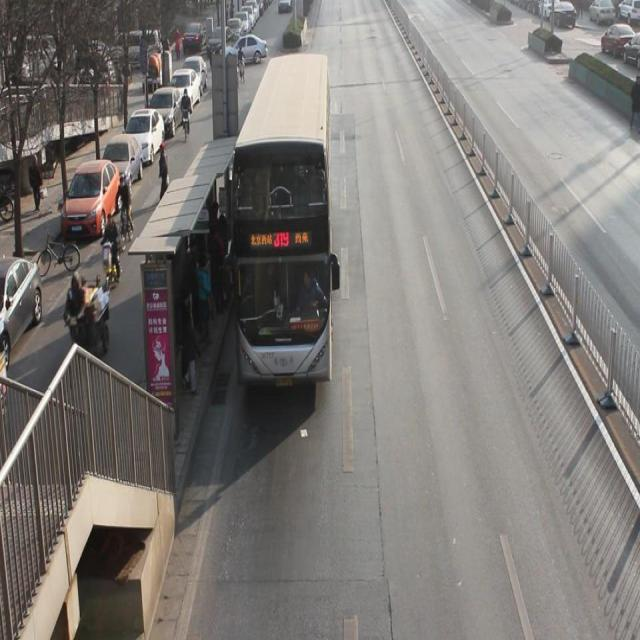van: (231, 49, 333, 387)
